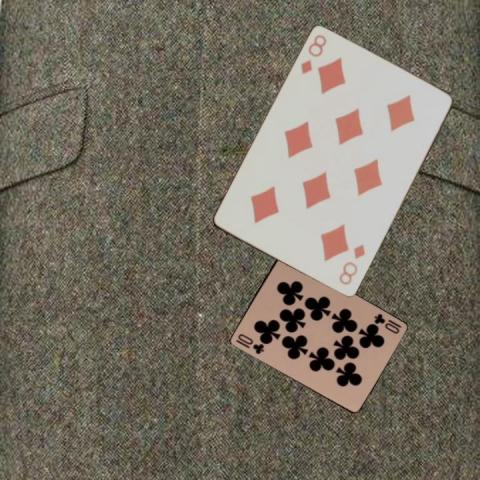10c: (233, 331, 265, 356), (370, 311, 402, 335)
8d: (335, 241, 367, 288), (297, 31, 329, 77)
